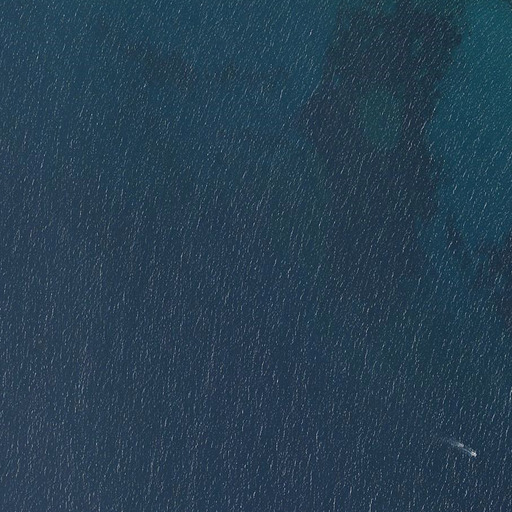ship: (469, 449, 477, 458)
